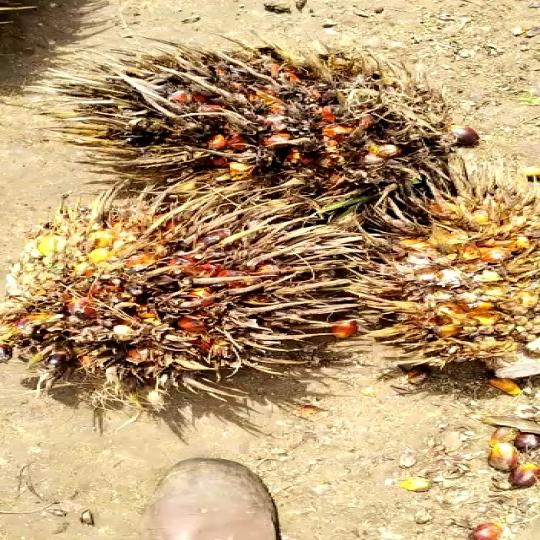terlalu masak: (0, 180, 360, 405), (56, 56, 462, 215)
